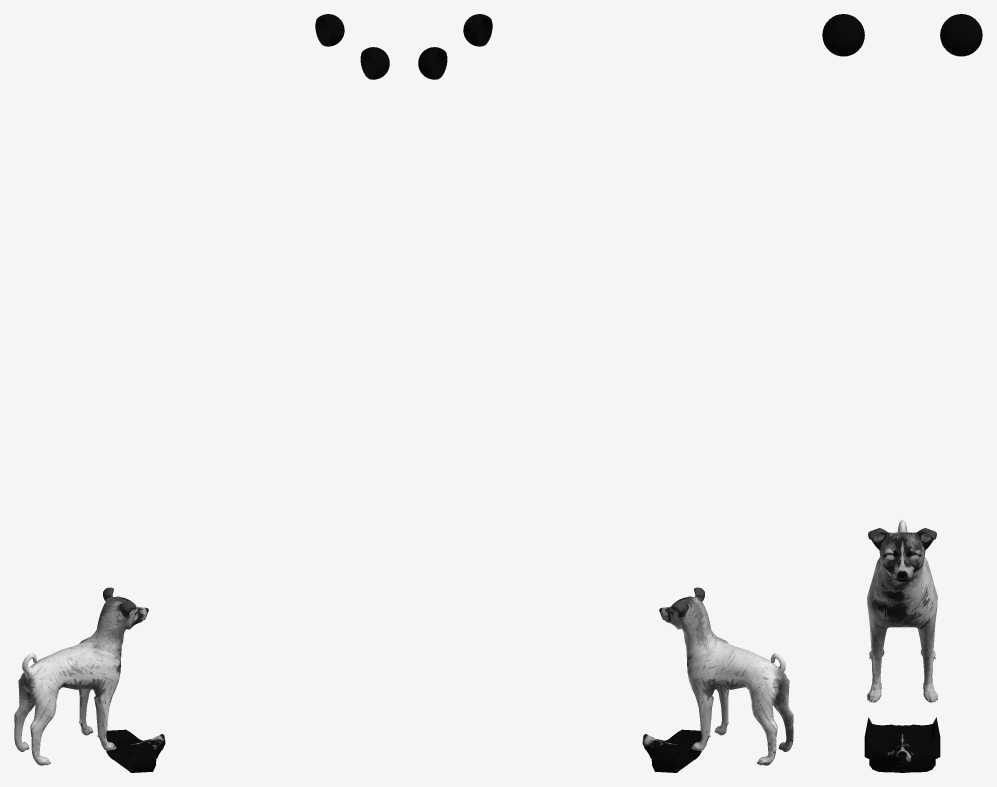
File: Snout.glb
3 renders of one model, left to right at view 1: azimuth 30°, elevation 25°; view 2: azimuth 150°, elevation 25°; view 3: azimuth 270°, elevation 25°, orthographic. The views are drawn at different scales.
Visible parts, largest first — view 1: Laika, Laika.001, Sphere; view 2: Laika, Laika.001, Sphere; view 3: Laika, Laika.001, Sphere.
Part boxes in pixels (x1,y1,x2,y2): Laika: (14, 587, 148, 765); Laika.001: (106, 729, 165, 772); Sphere: (315, 14, 389, 79); Laika: (659, 587, 793, 765); Laika.001: (642, 729, 701, 772); Sphere: (418, 14, 492, 79); Laika: (867, 520, 937, 702); Laika.001: (864, 717, 940, 772); Sphere: (822, 14, 982, 56).
Size of the model in its own units: 1.12 by 2.14 by 0.3494.
Materials: 1 (1 with a texture image).
